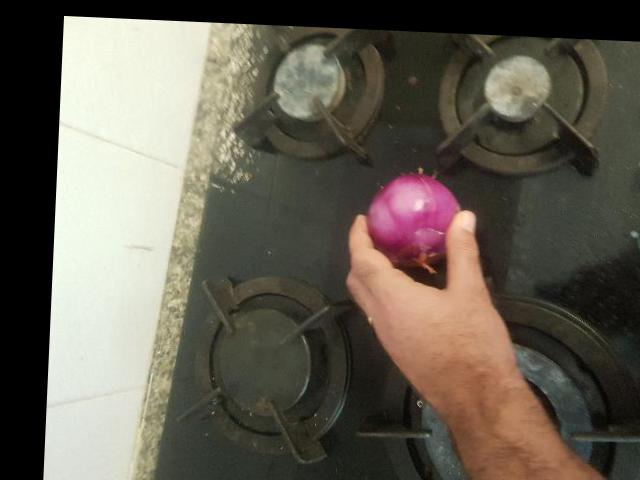onion: (217, 110, 292, 186)
